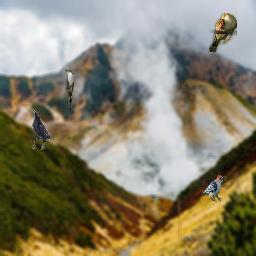Crow: (32, 110, 50, 150)
Cuckoo: (209, 13, 237, 53), (65, 69, 74, 109)
Woodpecker: (202, 175, 225, 202)
